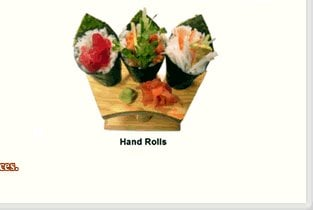soup: (119, 8, 168, 83)
